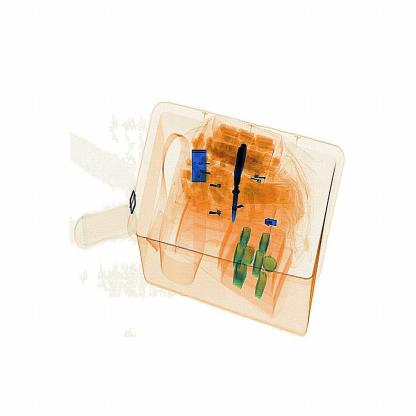gun: (223, 134, 250, 224)
